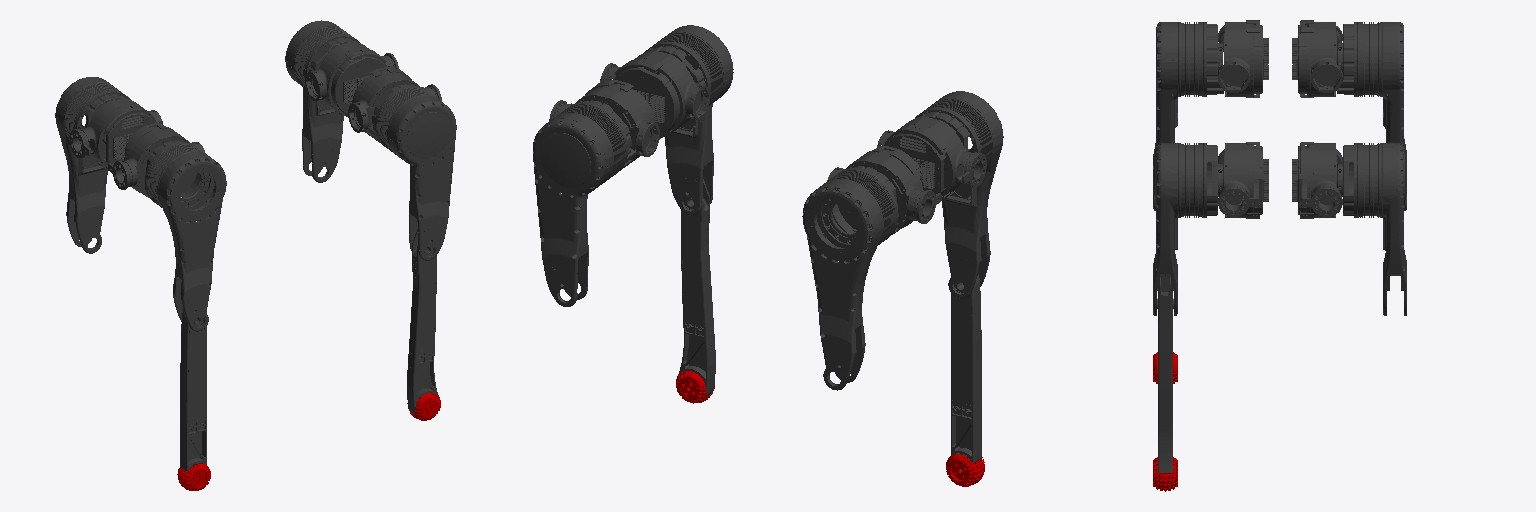
robot.urdf — pxi_robot:
<?xml version="1.0"?>
<robot name="pxi_robot">
  <material name="BlueGrey">
    <color rgba="0.3 0.3 0.3 0.5" />
  </material>
  <material name="White">
    <color rgba="1.0 1.0 1.0 1.0" />
  </material>
  <material name="red">
    <color rgba="0.8 0.0 0.0 1.0" />
  </material>

  <link name="base_link">
    <!-- No head  -->
    <!-- <inertial>
      <origin
          rpy="0 0 0"
          xyz="0.016998 -0.000331 0.001318" />
      <mass value="25.25" />
      <inertia
          ixx="278395.26E-06"
          ixy="152.889E-06"
          ixz="22651.99E-06"
          iyy="846723.829E-06"
          iyz="-3102.74E-06"
          izz="820125.4E-06" />
    </inertial>
    <visual>
      <origin
          rpy="0 0 0"
          xyz="0 0 0" />
      <geometry>
        <mesh filename="meshes/px2/base_link_withouthead.stl" />
      </geometry>
      <material name="White" />
    </visual> -->
    <!-- No head  -->

    <!--  With head  -->
    <inertial>
      <origin
          rpy="0 0 0"
          xyz="0.047667 -0.000272 0.063558" />
      <mass value="29.96" />
      <inertia
          ixx="1025387.025E-06"
          ixy="424.514E-06"
          ixz="346767.5E-06"
          iyy="1741046.826E-06"
          iyz="-2423.749E-06"
          izz="1007097.4E-06" />
    </inertial>
    <visual>
      <origin
          rpy="0 0 0"
          xyz="0 0 0" />
      <geometry>
        <mesh filename="meshes/px2/base_link.stl" />
      </geometry>
      <material name="White" />
    </visual>
    <!--  With head  -->

    <collision>
      <origin
          rpy="0 0 0"
          xyz="0 0 0" />
      <geometry>
        <box size="0.475 0.154 0.158" />
      </geometry>
    </collision>
  </link>



  <!-- fr leg and foot  -->
  <joint
      name="leg0-fr1_j"
      type="revolute">
    <origin
        rpy="0 0 0"
        xyz="0.2375 -0.077 0" />
    <limit
        effort="600"
        lower="-0.7"
        upper="0.7"
        velocity="60" />
    <dynamics
        damping="1"
        friction="1" />
    <parent link="base_link" />
    <child link="fr1_l" />
    <axis xyz="1 0 0" />
  </joint>

  <link name="fr1_l">
    <inertial>
      <origin
          rpy="0 0 0"
          xyz="0.003545 0.008681 -0.000499" />
      <mass value="2.434" />
      <inertia
          ixx="2735.034E-06"
          ixy="-28.732E-06"
          ixz="-2.769E-06"
          iyy="5326.621E-06"
          iyz="33.239E-06"
          izz="3869.552E-06" />
    </inertial>
    <visual>
      <origin
          rpy="0 0 0"
          xyz="0 0 0" />
      <geometry>
        <mesh filename="meshes/px2/fr1_l.stl" />
      </geometry>
      <material name="BlueGrey" />
    </visual>
  </link>


  <joint
      name="leg0-fr2_j"
      type="revolute">
    <origin
        rpy="0 0 0"
        xyz="0 -0.1135 0" />
    <limit
        effort="600"
        lower="-2.68"
        upper="0.55"
        velocity="60" />
    <dynamics
        damping="1"
        friction="1" />
    <parent link="fr1_l" />
    <child link="fr2_l" />
    <axis xyz="0 1 0" />
  </joint>

  <link name="fr2_l">
    <inertial>
      <origin
          rpy="0 0 0"
          xyz="0.000741  0.036106 -0.022816" />
      <mass value="3.545" />
      <inertia
          ixx="17947.309E-06"
          ixy="-264.061E-06"
          ixz="-507.176E-06"
          iyy="17878.08E-06"
          iyz="2892.836E-06"
          izz="5935.208E-06" />
    </inertial>
    <visual>
      <origin
          rpy="0 0 0"
          xyz="0 0 0" />
      <geometry>
        <mesh filename="meshes/px2/fr2_l.stl" />
      </geometry>
      <material name="BlueGrey" />
    </visual>
    <collision>
      <origin
          rpy="1.57079632679 0 0"
          xyz="0 0 0" />
      <geometry>
        <cylinder
            length="0.03"
            radius="0.06" />
      </geometry>
    </collision>
  </link>


  <joint
      name="leg0-fr3_j"
      type="revolute">
    <origin
        rpy="0 0 0"
        xyz="0 0 -0.226" />
    <limit
        effort="600"
        lower="0"
        upper="2.44"
        velocity="60" />
    <dynamics
        damping="1"
        friction="1" />
    <parent link="fr2_l" />
    <child link="fr3_l" />
    <axis xyz="0 1 0" />
  </joint>

  <link name="fr3_l">
    <inertial>
      <origin
          rpy="0 0 0"
          xyz="-0.000517 -0.000009 -0.175994" />
      <mass value="0.7" />
      <inertia
          ixx="3607.618E-06"
          ixy="-0.022E-07"
          ixz="34.151E-06"
          iyy="3636.624E-06"
          iyz="-0.503E-06"
          izz="68.151E-06" />
    </inertial>
    <visual>
      <origin
          rpy="0 0 0"
          xyz="0 0 0" />
      <geometry>
        <mesh filename="meshes/px2/fr3_l.stl" />
      </geometry>
      <material name="BlueGrey" />
    </visual>
  </link>


  <joint
      name="leg0-fr4_foot_fixed"
      type="fixed">
    <origin
        rpy="0 0 0"
        xyz="0 0 -0.310" />
    <parent link="fr3_l" />
    <child link="fr_foot" />
  </joint>

  <link name="fr_foot">
    <visual>
      <origin
          rpy="0 0 0"
          xyz="0 0 0" />
      <geometry>
        <mesh filename="meshes/px2/fr_foot.stl" />
      </geometry>
      <material name="red" />
    </visual>
    <collision>
      <origin
          rpy="0 0 0"
          xyz="0 0 0" />
      <geometry>
        <sphere radius="0.03" />
      </geometry>
    </collision>
    <inertial>
      <mass value="0.06" />
      <inertia
          ixx="8.64E-05"
          ixy="0.0"
          ixz="0.0"
          iyy="8.64E-05"
          iyz="0.0"
          izz="8.64E-05" />
    </inertial>
  </link>




  <!-- FH leg and foot  -->
  <joint
      name="leg1-fl1_j"
      type="revolute">
    <origin
        rpy="0 0 0"
        xyz="0.2375 0.077 0" />
    <limit
        effort="600"
        lower="-0.7"
        upper="0.7"
        velocity="60" />
    <dynamics
        damping="1"
        friction="1" />
    <parent link="base_link" />
    <child link="fl1_l" />
    <axis xyz="1 0 0" />
  </joint>

  <link name="fl1_l">
    <inertial>
      <origin
          rpy="0 0 0"
          xyz="0.003545 -0.008681 -0.000499" />
      <mass value="2.434" />
      <inertia
          ixx="2735.034E-06"
          ixy="28.732E-06"
          ixz="2.768E-06"
          iyy="5326.621E-06"
          iyz="33.246E-06"
          izz="3869.552E-06" />
    </inertial>
    <visual>
      <origin
          rpy="0 0 0"
          xyz="0 0 0" />
      <geometry>
        <mesh filename="meshes/px2/fl1_l.stl" />
      </geometry>
      <material name="BlueGrey" />
    </visual>
  </link>


  <joint
      name="leg1-fl2_j"
      type="revolute">
    <origin
        rpy="0 0 0"
        xyz="0 0.1135 0" />
    <limit
        effort="600"
        lower="-2.68"
        upper="0.55"
        velocity="60" />
    <dynamics
        damping="1"
        friction="1" />
    <parent link="fl1_l" />
    <child link="fl2_l" />
    <axis xyz="0 1 0" />
  </joint>

  <link name="fl2_l">
    <inertial>
      <origin
          rpy="0 0 0"
          xyz="0.001229 -0.036096 -0.023523" />
      <mass value="3.545" />
      <inertia
          ixx="17810.705E-06"
          ixy="206.564E-06"
          ixz="-473.006E-06"
          iyy="17758.310E-06"
          iyz="-2814.929E-06"
          izz="5957.013E-06" />
    </inertial>
    <visual>
      <origin
          rpy="0 0 0"
          xyz="0 0 0" />
      <geometry>
        <mesh filename="meshes/px2/fl2_l.stl" />
      </geometry>
      <material name="BlueGrey" />
    </visual>
    <collision>
      <origin
          rpy="1.57079632679 0 0"
          xyz="0 0 0" />
      <geometry>
        <cylinder
            length="0.03"
            radius="0.06" />
      </geometry>
    </collision>
  </link>


  <joint
      name="leg1-fl3_j"
      type="revolute">
    <origin
        rpy="0 0 0"
        xyz="0 0 -0.226" />
    <limit
        effort="600"
        lower="0"
        upper="2.44"
        velocity="60" />
    <dynamics
        damping="1"
        friction="1" />
    <parent link="fl2_l" />
    <child link="fl3_l" />
    <axis xyz="0 1 0" />
  </joint>

  <link name="fl3_l">
    <inertial>
      <origin
          rpy="0 0 0"
          xyz="-0.000517 -0.000009 -0.175994" />
      <mass value="0.7" />
      <inertia
          ixx="3607.618E-06"
          ixy="-0.022E-07"
          ixz="34.151E-06"
          iyy="3636.624E-06"
          iyz="-0.503E-06"
          izz="68.151E-06" />
    </inertial>
    <visual>
      <origin
          rpy="0 0 0"
          xyz="0 0 0" />
      <geometry>
        <mesh filename="meshes/px2/fl3_l.stl" />
      </geometry>
      <material name="BlueGrey" />
    </visual>
  </link>


  <joint
    name="leg1-fl4_foot_fixed"
    type="fixed">
    <origin
      rpy="0 0 0"
      xyz="0 0 -0.310" />
    <parent link="fl3_l" />
    <child link="fl_foot" />
  </joint>

  <link name="fl_foot">
    <visual>
      <origin
          rpy="0 0 0"
          xyz="0 0 0" />
      <geometry>
        <mesh filename="meshes/px2/fl_foot.stl" />
      </geometry>
      <material name="red" />
    </visual>
    <collision>
      <origin
          rpy="0 0 0"
          xyz="0 0 0" />
      <geometry>
        <sphere radius="0.03" />
      </geometry>
    </collision>
    <inertial>
      <mass value="0.06" />
      <inertia
          ixx="8.64E-05"
          ixy="0.0"
          ixz="0.0"
          iyy="8.64E-05"
          iyz="0.0"
          izz="8.64E-05" />
    </inertial>
  </link>




  <!-- HR leg and foot  -->
  <joint
      name="leg2-hr1_j"
      type="revolute">
    <origin
        rpy="0 0 0"
        xyz="-0.2375 -0.077 0" />
    <limit
        effort="600"
        lower="-0.7"
        upper="0.7"
        velocity="60" />
    <dynamics
        damping="1"
        friction="1" />
    <parent link="base_link" />
    <child link="hr1_l" />
    <axis xyz="1 0 0" />
  </joint>

  <link name="hr1_l">
    <inertial>
      <origin
          rpy="0 0 0"
          xyz="-0.003545 0.008681 -0.000499" />
      <mass value="2.434" />
      <inertia
          ixx="2735.034E-06"
          ixy="28.732E-06"
          ixz="-2.768E-06"
          iyy="5326.621E-06"
          iyz="-33.246E-06"
          izz="3869.552E-06" />
    </inertial>
    <visual>
      <origin
          rpy="0 0 0"
          xyz="0 0 0" />
      <geometry>
        <mesh filename="meshes/px2/hr1_l.stl" />
      </geometry>
      <material name="BlueGrey" />
    </visual>
  </link>


  <joint
      name="leg2-hr2_j"
      type="revolute">
    <origin
        rpy="0 0 0"
        xyz="0 -0.1135 0" />
    <limit
        effort="600"
        lower="0.0"
        upper="3.14"
        velocity="60" />
    <dynamics
        damping="1"
        friction="1" />
    <parent link="hr1_l" />
    <child link="hr2_l" />
    <axis xyz="0 1 0" />
  </joint>

  <link name="hr2_l">
    <inertial>
      <origin
          rpy="0 0 0"
          xyz="0.00109 0.035237 -0.028952" />
      <mass value="3.623" />
      <inertia
          ixx="22152.447E-06"
          ixy="-67.223E-06"
          ixz="-97.253E-06"
          iyy="21995.982E-06"
          iyz="3508.323E-06"
          izz="6105.407E-06" />
    </inertial>
    <visual>
      <origin
          rpy="0 0 0"
          xyz="0 0 0" />
      <geometry>
        <mesh filename="meshes/px2/hr2_l.stl" />
      </geometry>
      <material name="BlueGrey" />
    </visual>
    <collision>
      <origin
          rpy="1.57079632679 0 0"
          xyz="0 0 0" />
      <geometry>
        <cylinder
            length="0.03"
            radius="0.06" />
      </geometry>
    </collision>
  </link>


  <joint
      name="leg2-hr3_j"
      type="revolute">
    <origin
        rpy="0 0 0"
        xyz="0 0 -0.255" />
    <limit
        effort="600"
        lower="-2.68"
        upper="0.48"
        velocity="60" />
    <dynamics
        damping="1"
        friction="1" />
    <parent link="hr2_l" />
    <child link="hr3_l" />
    <axis xyz="0 1 0" />
  </joint>

  <link name="hr3_l">
    <inertial>
      <origin
          rpy="0 0 0"
          xyz="-0.000713 -0.000010 -0.163020" />
      <mass value="0.7" />
      <inertia
          ixx="3530.689E-06"
          ixy="-0.012E-06"
          ixz="7.430E-06"
          iyy="3556.283E-06"
          iyz="-0.459E-06"
          izz="62.614E-06" />
    </inertial>
    <visual>
      <origin
          rpy="0 0 0"
          xyz="0 0 0" />
      <geometry>
        <mesh filename="meshes/px2/hr3_l.stl" />
      </geometry>
      <material name="BlueGrey" />
    </visual>
  </link>




  <joint
      name="leg2-hr4_foot_fixed"
      type="fixed">
    <origin
        rpy="0 0 0"
        xyz="0 0 -0.310" />
    <parent link="hr3_l" />
    <child link="hr_foot" />
  </joint>


  <link name="hr_foot">
    <visual>
      <origin
          rpy="0 0 0"
          xyz="0 0 0" />
      <geometry>
        <mesh filename="meshes/px2/hr_foot.stl" />
      </geometry>
      <material name="red" />
    </visual>
    <collision>
      <origin
          rpy="0 0 0"
          xyz="0 0 0" />
      <geometry>
        <sphere radius="0.03" />
      </geometry>
    </collision>
    <inertial>
      <mass value="0.06" />
      <inertia
          ixx="8.64E-05"
          ixy="0.0"
          ixz="0.0"
          iyy="8.64E-05"
          iyz="0.0"
          izz="8.64E-05" />
    </inertial>
  </link>



  <!-- HL leg and foot  -->
  <joint
      name="leg3-hl1_j"
      type="revolute">
    <origin
        rpy="0 0 0"
        xyz="-0.2375 0.077 0" />
    <limit
        effort="600"
        lower="-0.7"
        upper="0.7"
        velocity="60" />
    <dynamics
        damping="1"
        friction="1" />
    <parent link="base_link" />
    <child link="hl1_l" />
    <axis xyz="1 0 0" />
  </joint>

  <link name="hl1_l">
    <inertial>
      <origin
          rpy="0 0 0"
          xyz="-0.003545 -0.008681 0.000499" />
      <mass value="2.434" />
      <inertia
          ixx="2735.034E-06"
          ixy="-28.732E-06"
          ixz="2.768E-06"
          iyy="5326.621E-06"
          iyz="33.246E-06"
          izz="3869.552E-06" />
    </inertial>
    <visual>
      <origin
          rpy="0 0 0"
          xyz="0 0 0" />
      <geometry>
        <mesh filename="meshes/px2/hl1_l.stl" />
      </geometry>
      <material name="BlueGrey" />
    </visual>
  </link>


  <joint
      name="leg3-hl2_j"
      type="revolute">
    <origin
        rpy="0 0 0"
        xyz="0 0.1135 0" />
    <limit
        effort="600"
        lower="0.0"
        upper="3.14"
        velocity="60" />
    <dynamics
        damping="1"
        friction="1" />
    <parent link="hl1_l" />
    <child link="hl2_l" />
    <axis xyz="0 1 0" />
  </joint>

  <link name="hl2_l">
    <inertial>
      <origin
          rpy="0 0 0"
          xyz="0.001512 -0.035228 -0.027853" />
      <mass value="3.623" />
      <inertia
          ixx="22394.143E-06"
          ixy="92.234E-06"
          ixz="-74.179E-06"
          iyy="22252.353E-06"
          iyz="-3681.749E-06"
          izz="6124.825E-06" />
    </inertial>
    <visual>
      <origin
          rpy="0 0 0"
          xyz="0 0 0" />
      <geometry>
        <mesh filename="meshes/px2/hl2_l.stl" />
      </geometry>
      <material name="BlueGrey" />
    </visual>
    <collision>
      <origin
          rpy="1.57079632679 0 0"
          xyz="0 0 0" />
      <geometry>
        <cylinder
            length="0.03"
            radius="0.06" />
      </geometry>
    </collision>
  </link>


  <joint
      name="leg3-hl3_j"
      type="revolute">
    <origin
        rpy="0 0 0"
        xyz="0 0 -0.255" />
    <limit
        effort="600"
        lower="-2.68"
        upper="0.48"
        velocity="60" />
    <dynamics
        damping="1"
        friction="1" />
    <parent link="hl2_l" />
    <child link="hl3_l" />
    <axis xyz="0 1 0" />
  </joint>

  <link name="hl3_l">
    <inertial>
      <origin
          rpy="0 0 0"
          xyz="-0.000713 -0.000010 -0.163020" />
        <mass value="0.7" />
        <inertia
            ixx="3530.689E-06"
            ixy="-0.012E-06"
            ixz="7.430E-06"
            iyy="3556.283E-06"
            iyz="-0.459E-06"
            izz="62.614E-06" />
    </inertial>
    <visual>
      <origin
          rpy="0 0 0"
          xyz="0 0 0" />
      <geometry>
        <mesh filename="meshes/px2/hl3_l.stl" />
      </geometry>
      <material name="BlueGrey" />
    </visual>
  </link>




  <joint
      name="leg3-hl4_foot_fixed"
      type="fixed">
    <origin
        rpy="0 0 0"
        xyz="0 0 -0.310" />
    <parent link="hl3_l" />
    <child link="hl_foot" />
  </joint>


  <link name="hl_foot">
    <visual>
      <origin
          rpy="0 0 0"
          xyz="0 0 0" />
      <geometry>
        <mesh filename="meshes/px2/hl_foot.stl" />
      </geometry>
      <material name="red" />
    </visual>
    <collision>
      <origin
          rpy="0 0 0"
          xyz="0 0 0" />
      <geometry>
        <sphere radius="0.03" />
      </geometry>
    </collision>
    <inertial>
      <mass value="0.06" />
      <inertia
          ixx="8.64E-05"
          ixy="0.0"
          ixz="0.0"
          iyy="8.64E-05"
          iyz="0.0"
          izz="8.64E-05" />
    </inertial>
  </link>

</robot>

--- Facts derived from the render (not from the file) ---
Views: 3 orthographic renders of the robot side by side, from view 1: azimuth 30°, elevation 25°; view 2: azimuth 150°, elevation 25°; view 3: azimuth 270°, elevation 25°.
Model pxi_robot with 17 links and 16 joints (12 revolute, 4 fixed), rooted at base_link, posed every joint at zero.
Links seen in each view (by area): view 1: hr2_l, fr2_l, hl2_l, fl2_l, fr3_l, hr3_l, fl1_l, hl1_l, hr1_l, fr1_l, hr_foot, fr_foot; view 2: hl2_l, fl2_l, hr2_l, fr2_l, fr3_l, hr3_l, fr1_l, hr1_l, hl1_l, fl1_l, hr_foot, fr_foot; view 3: fr2_l, fl2_l, hr2_l, hl2_l, hr1_l, hl1_l, fr1_l, fl1_l, fr3_l, fr_foot.
Link boxes in pixels (x1,y1,x2,y2): hr2_l: (145, 141, 226, 331); fr2_l: (368, 84, 456, 260); hl2_l: (55, 77, 130, 253); fl2_l: (285, 20, 360, 182); fr3_l: (407, 229, 438, 414); hr3_l: (180, 309, 206, 482); fl1_l: (305, 42, 403, 119); hl1_l: (70, 98, 162, 175); hr1_l: (108, 123, 205, 197); fr1_l: (348, 67, 441, 137); hr_foot: (177, 464, 210, 490); fr_foot: (407, 393, 440, 420); hl2_l: (802, 166, 898, 390); fl2_l: (533, 100, 635, 306); hr2_l: (915, 91, 1003, 298); fr2_l: (644, 25, 733, 215); fr3_l: (679, 179, 715, 396); hr3_l: (951, 274, 981, 471); fr1_l: (597, 51, 709, 141); hr1_l: (877, 117, 986, 207); hl1_l: (827, 146, 941, 234); fl1_l: (549, 80, 659, 165); hr_foot: (946, 454, 984, 486); fr_foot: (676, 371, 714, 403); fr2_l: (1153, 143, 1222, 315); fl2_l: (1337, 143, 1406, 315); hr2_l: (1153, 22, 1223, 210); hl2_l: (1337, 22, 1406, 210); hr1_l: (1218, 20, 1268, 97); hl1_l: (1292, 20, 1342, 97); fr1_l: (1218, 142, 1268, 218); fl1_l: (1292, 142, 1342, 218); fr3_l: (1157, 277, 1173, 472); fr_foot: (1153, 457, 1177, 491).
Size in the robot's own frame: 0.651 by 0.4222 by 0.658 metres.
Meshes: 17 distinct files referenced, 12 mesh visuals loaded (12 binary STL); not drawn: 5 (reference not matched to a file when rendering).